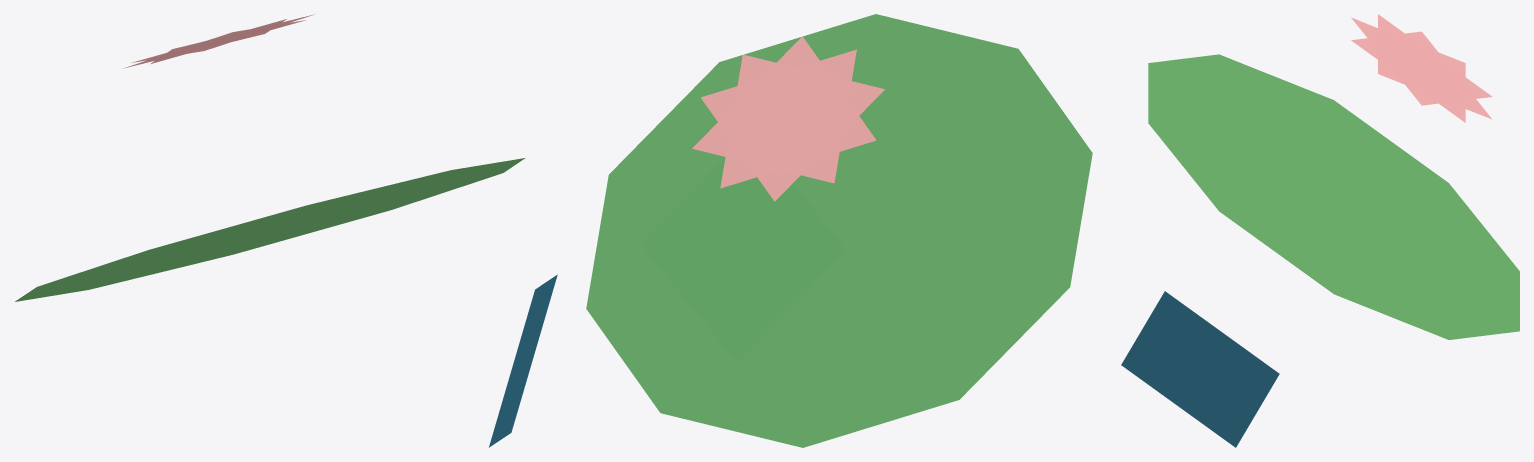
File: TruncatedDodecadodecahedronF.obj
The picture shows the model from 3 angles, left to right: view 1: azimuth 30°, elevation 25°; view 2: azimuth 150°, elevation 25°; view 3: azimuth 270°, elevation 25°; orthographic projection. The views are drawn at different scales.
Size of the model in its own units: 3.24 by 2.74 by 2.81.
